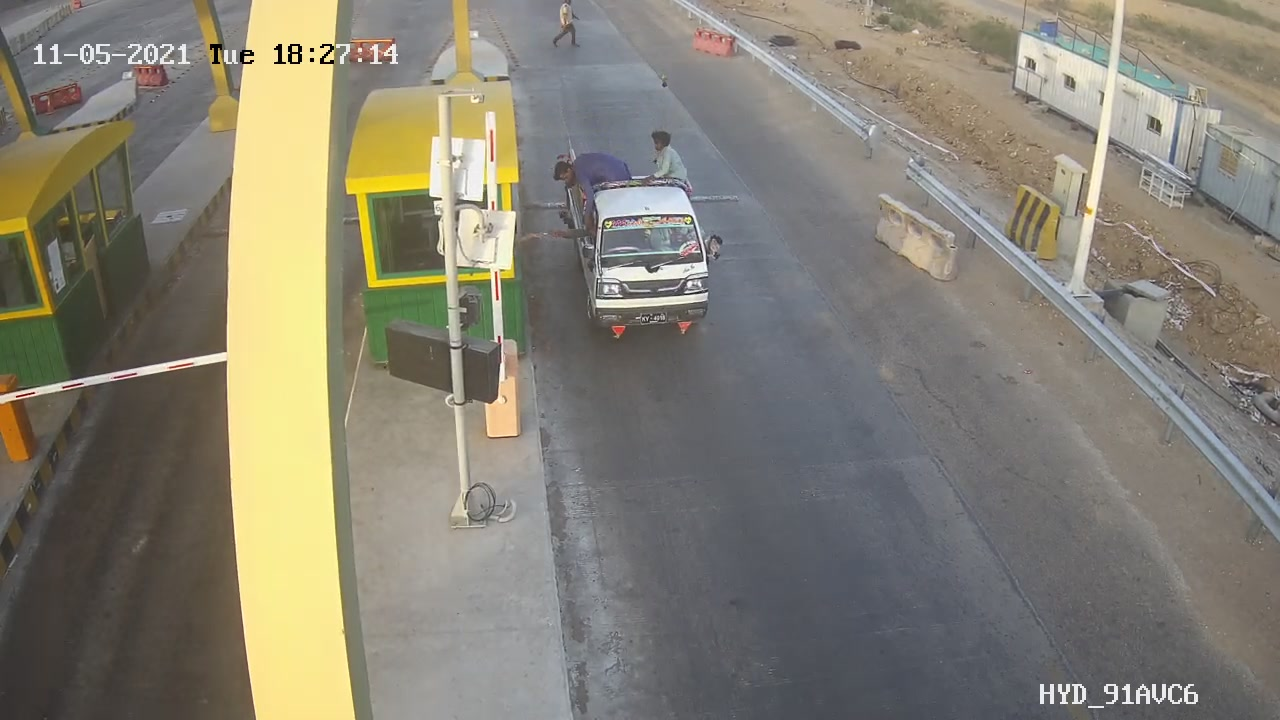F1: (566, 155, 725, 342)
